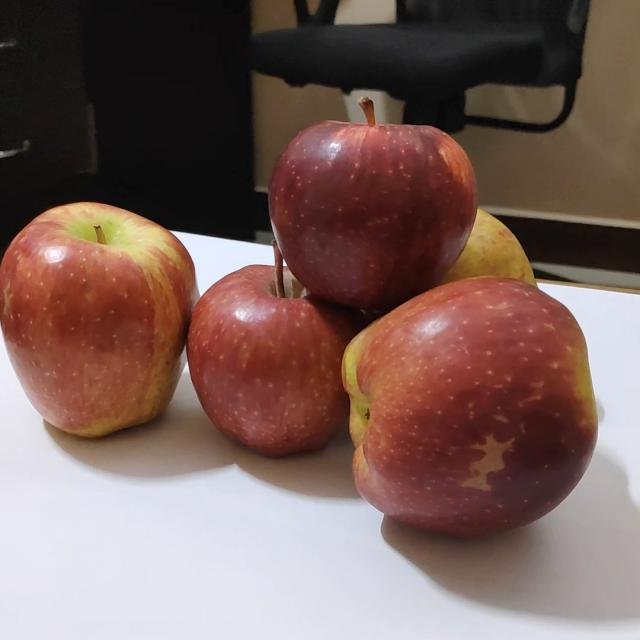apple: (332, 273, 604, 541), (0, 196, 201, 441), (260, 92, 480, 308), (184, 237, 370, 455), (412, 200, 544, 300)
